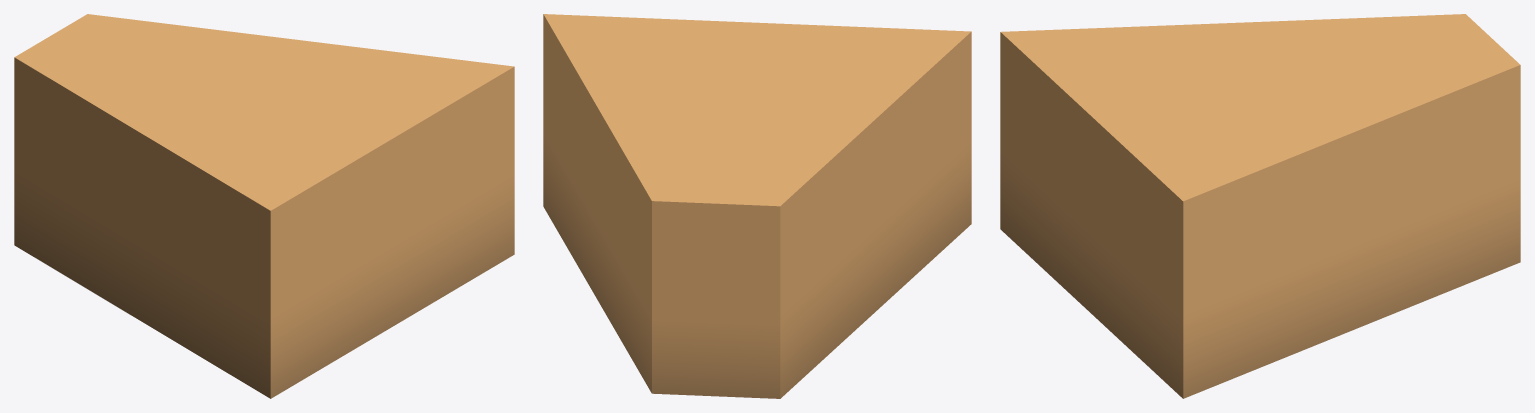
Rendered from PlatTri01.013.glb.
The picture shows the model from 3 angles, left to right: view 1: azimuth 30°, elevation 25°; view 2: azimuth 150°, elevation 25°; view 3: azimuth 270°, elevation 25°; orthographic projection. The views are drawn at different scales.
Visible parts, largest first — view 1: PlatTri01.013; view 2: PlatTri01.013; view 3: PlatTri01.013.
Part boxes in pixels (x1,y1,x2,y2): PlatTri01.013: (14, 14, 514, 398); PlatTri01.013: (543, 14, 971, 398); PlatTri01.013: (1000, 14, 1520, 398).
Size of what is drawn, in the model's own units: 2.35 by 1.15 by 2.75.
1 material, 1 textured.
